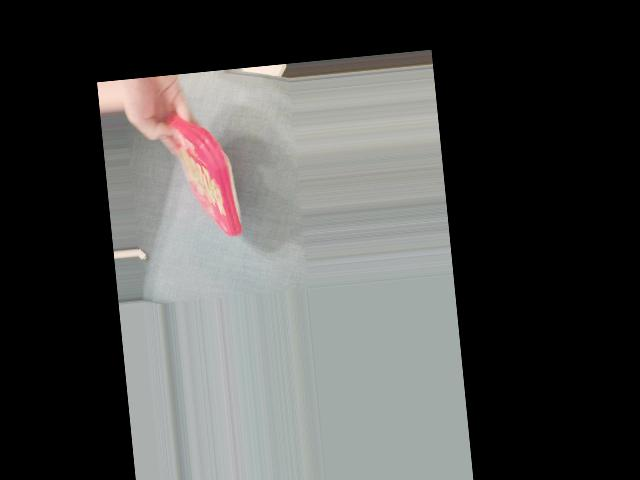cheese: (165, 115, 245, 240)
